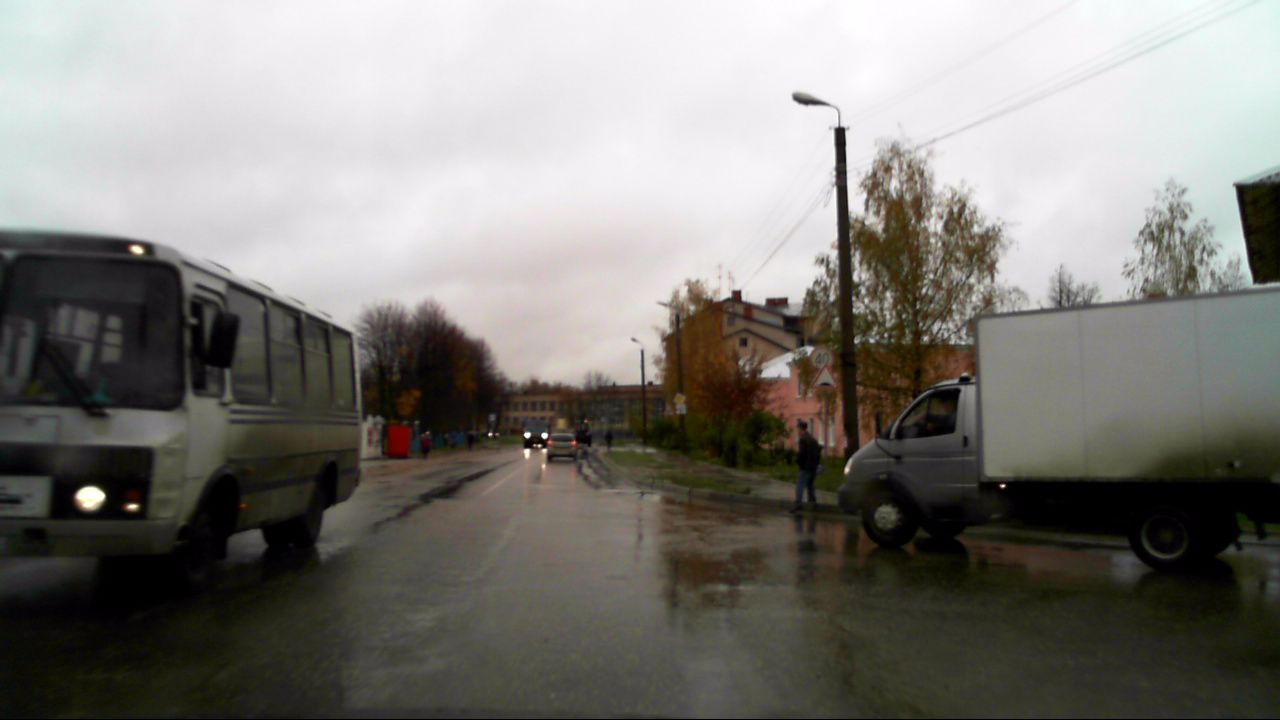speed_warning_40: (810, 346, 834, 371)
